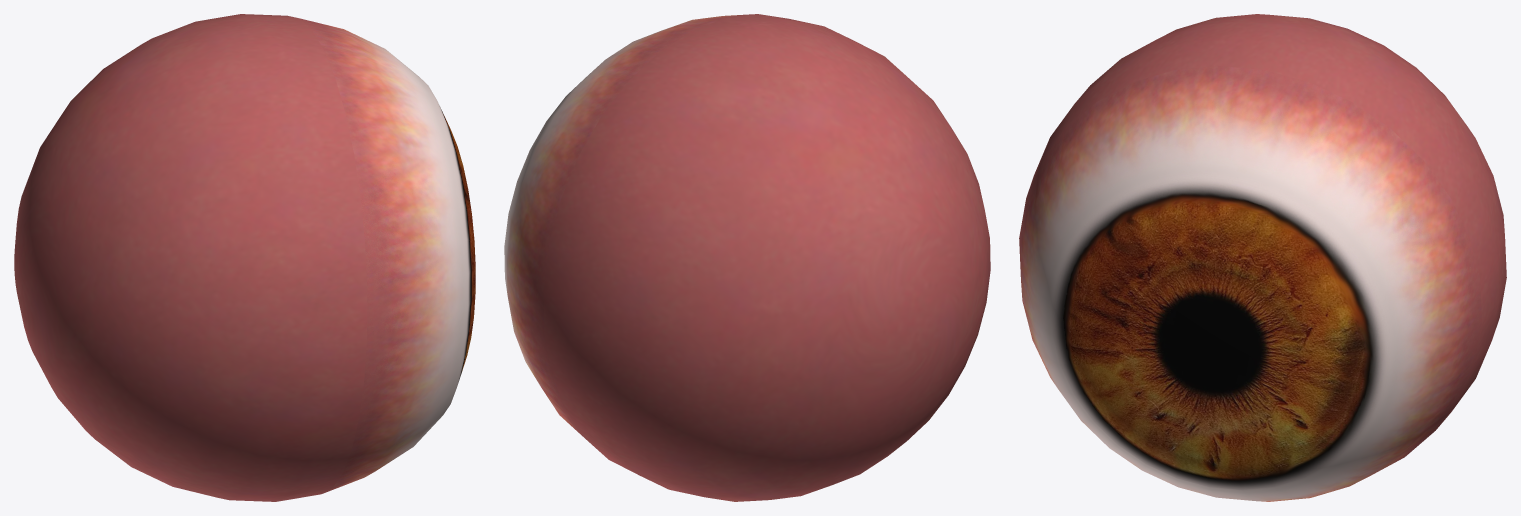
The model's file is Eye L.fbx.
3 renders of one model, left to right at view 1: azimuth 30°, elevation 25°; view 2: azimuth 150°, elevation 25°; view 3: azimuth 270°, elevation 25°, orthographic.
Parts seen in each view (by area): view 1: Eye L_LOD0; view 2: Eye L_LOD0; view 3: Eye L_LOD0.
Part boxes in pixels (x1,y1,x2,y2): Eye L_LOD0: (14,14,475,501); Eye L_LOD0: (504,14,990,501); Eye L_LOD0: (1019,14,1506,501).
Bounding box in the file's own units: 7.49 × 7.9 × 7.91.
